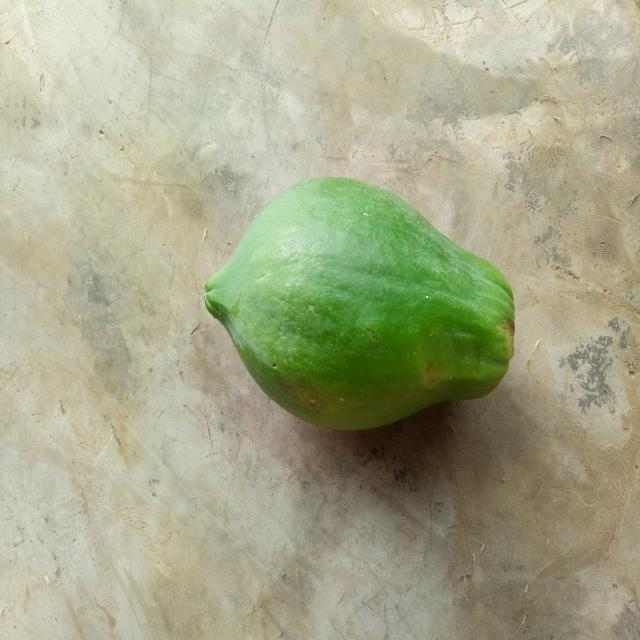Pepaya unrippen: (197, 170, 522, 448)
